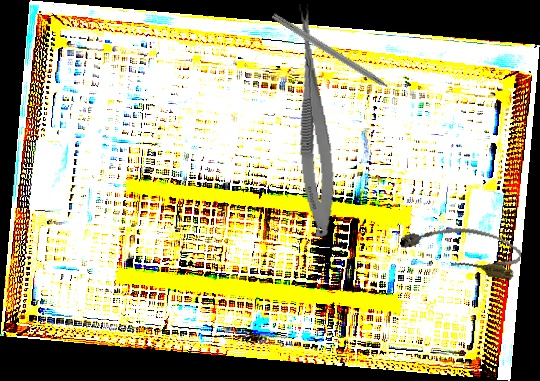Cannula: (397, 212, 525, 283)
Hook Surgical: (270, 12, 405, 101)
Micro Scissor: (283, 1, 342, 240)
